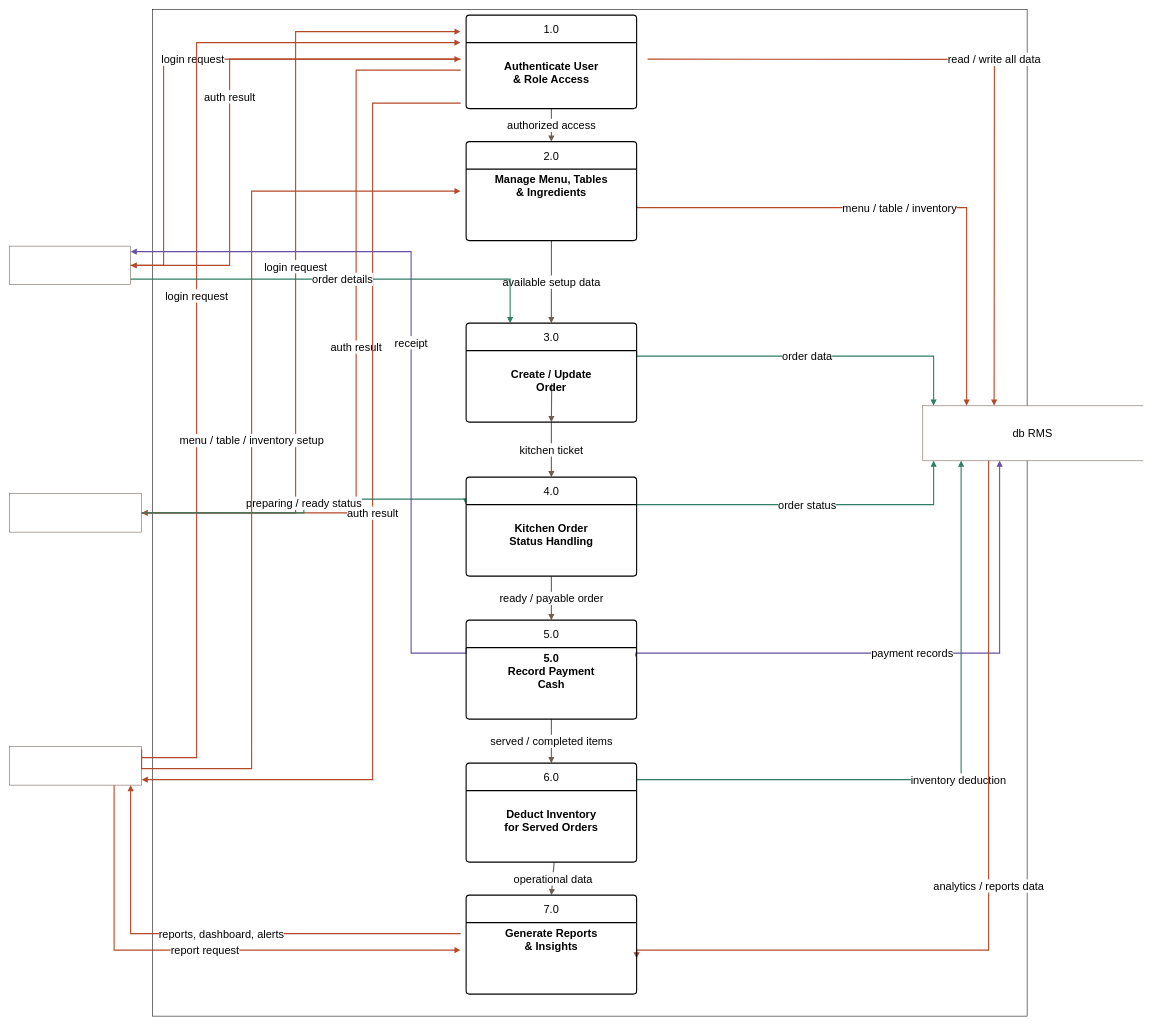
Some shapes in this 1152 by 1026 pixel diagram are drawn without their labels. The centre of each missing label's shape, as x and y in pixels:
CHEF / KITCHEN STAFF: (x=75, y=512)
CUSTOMER: (x=70, y=265)
MANAGER / ADMIN: (x=75, y=765)
